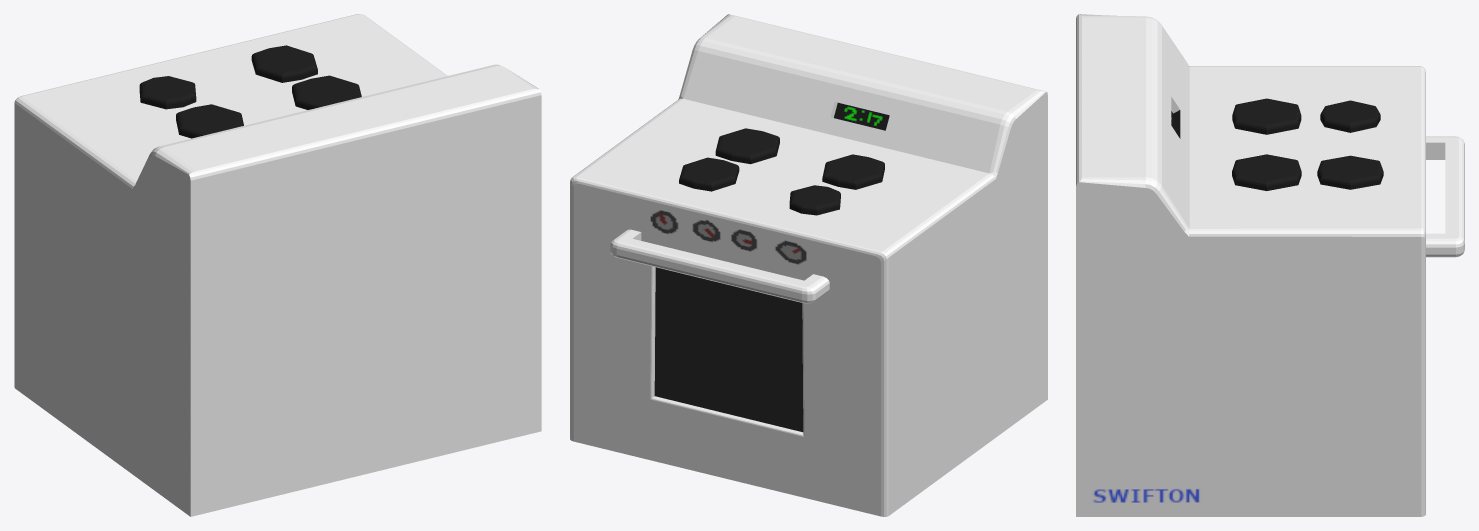
The model's file is stove_with_textures.fbx.
3 views of the same model, side by side, from view 1: azimuth 30°, elevation 25°; view 2: azimuth 150°, elevation 25°; view 3: azimuth 270°, elevation 25° (orthographic). The views are drawn at different scales.
Visible parts, largest first — view 1: Stove; view 2: Stove; view 3: Stove.
Part boxes in pixels (x1,y1,x2,y2): Stove: [14, 14, 541, 516]; Stove: [570, 14, 1047, 516]; Stove: [1076, 14, 1464, 516].
Bounding box in the file's own units: 1277 × 1188 × 1247.
Materials: 1 (1 with a texture image).
